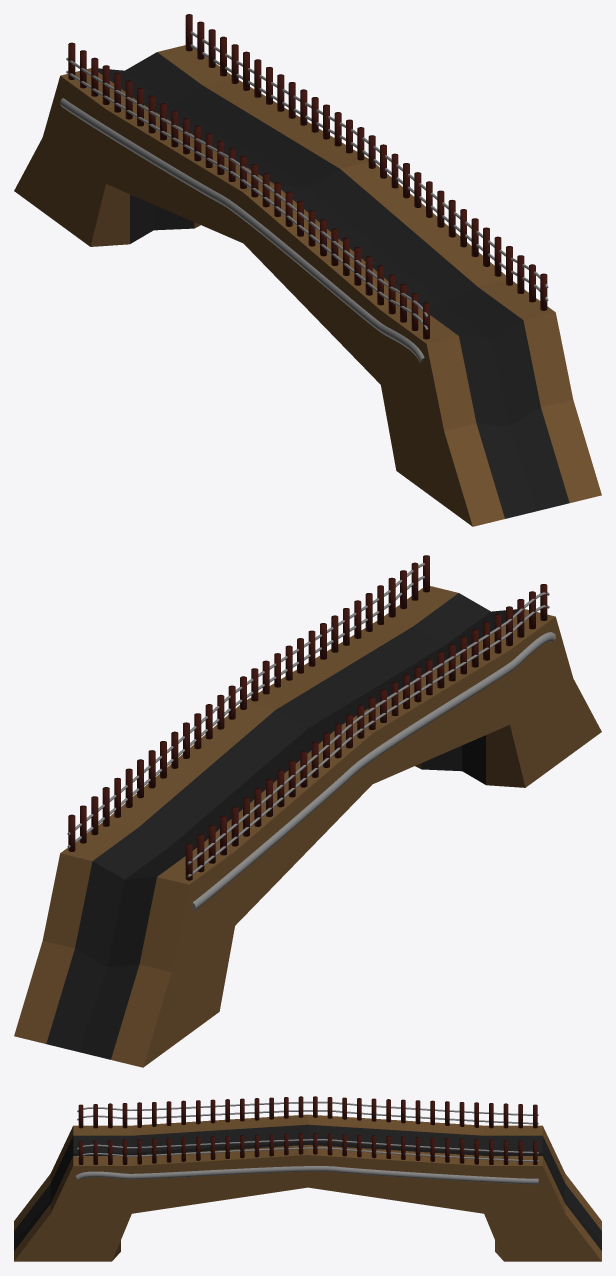
The model's file is Bridge.fbx.
3 renders of one model, top to bottom at view 1: azimuth 30°, elevation 25°; view 2: azimuth 150°, elevation 25°; view 3: azimuth 270°, elevation 25°, orthographic. The views are drawn at different scales.
Parts seen in each view (by area): view 1: Cube.001; view 2: Cube.001; view 3: Cube.001.
Boxes of the visible parts, x1,y1,x2,y2 form: Cube.001: (14,14,601,526); Cube.001: (14,555,601,1067); Cube.001: (14,1096,601,1261).
Size of the model in its own units: 20.04 by 3.43 by 4.73.
